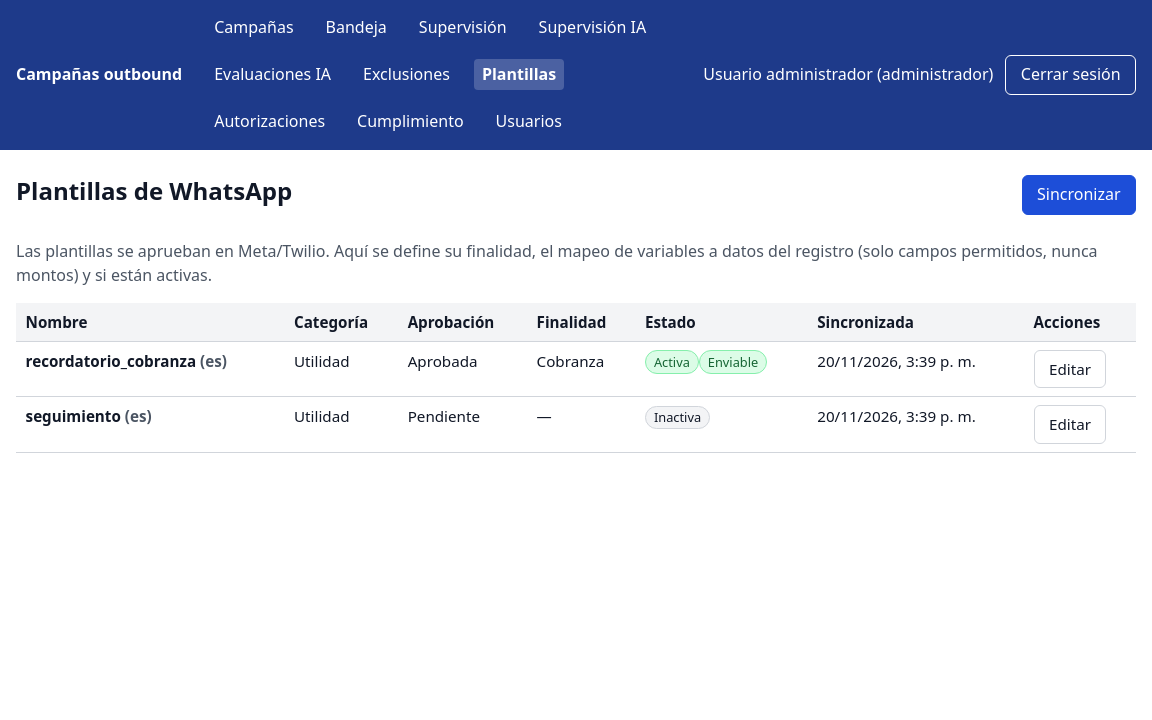
Test: Plantillas de WhatsApp › lista con estado de aprobación; solo el administrador ve Sincronizar y muestra el resultado
The image size is (1152, 720).
Expected: the text "Aprobada" is shown, [398,342,527,397]
Expected: the text "Activa" is shown, [645,350,699,374]
What coordinates should you click on to do the following:
click the button "Sincronizar"
I would click on:
 (1079, 195)
Its box is [1022,175,1136,215].
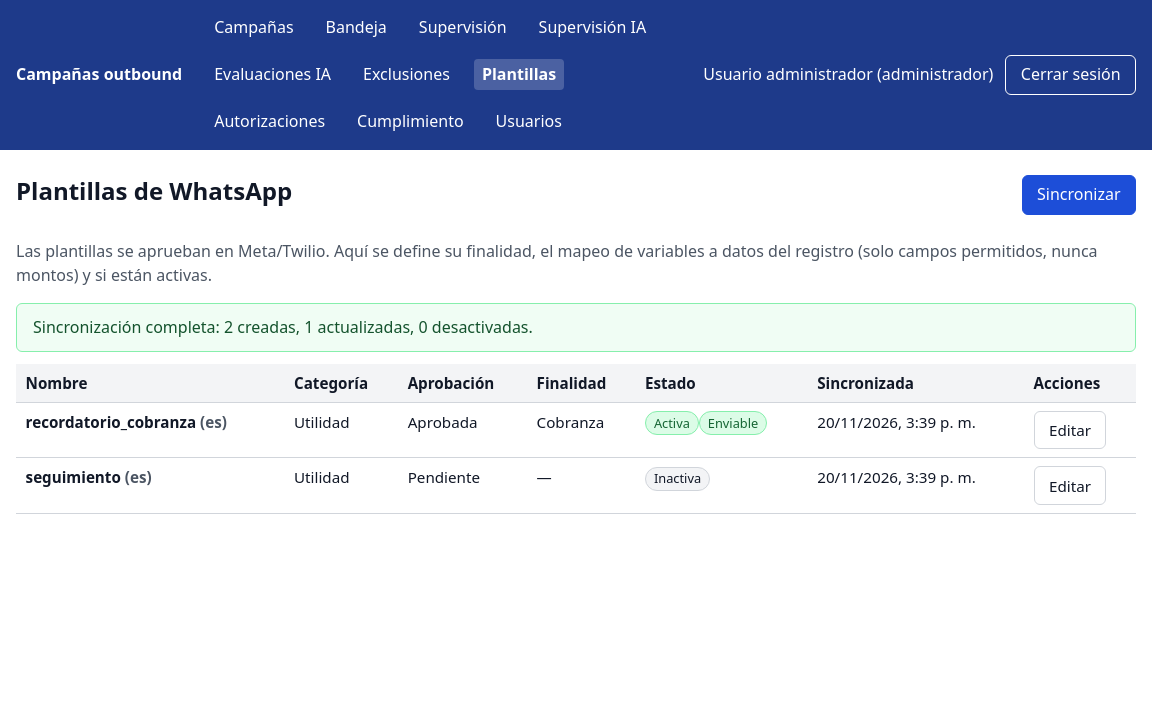
Now the text "Sincronización completa: 2 creadas, 1 actualizadas, 0 desactivadas." is shown, box [16,303,1136,352]
